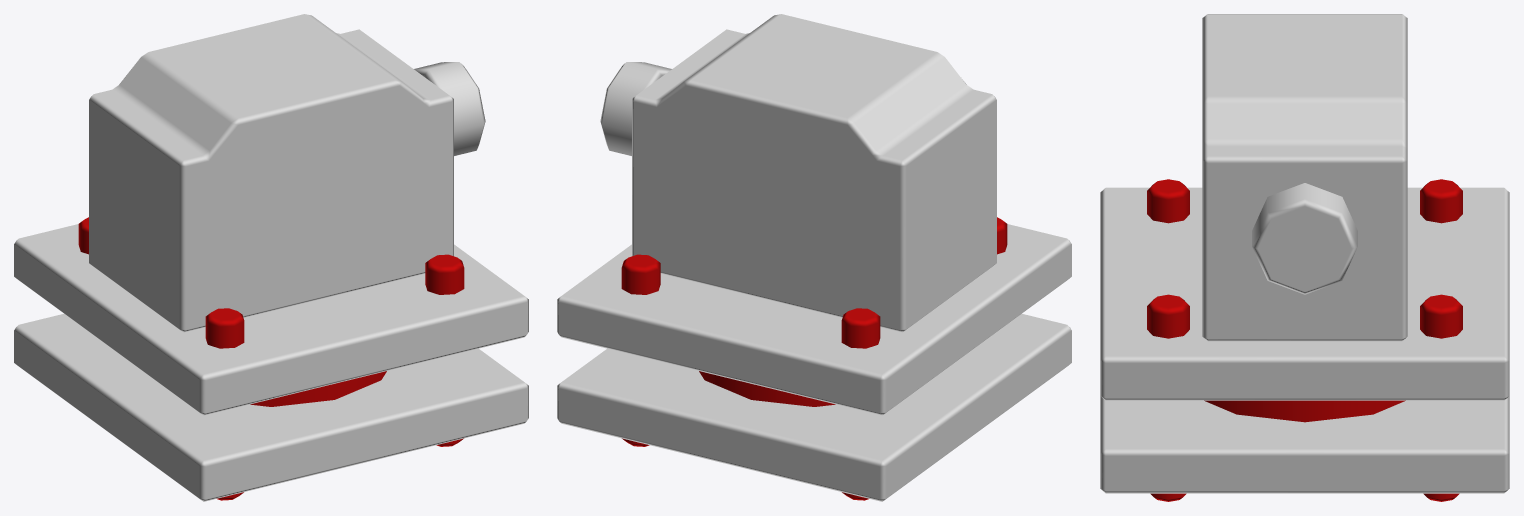
The model's file is VivariumFitting01.fbx.
The picture shows the model from 3 angles, left to right: view 1: azimuth 30°, elevation 25°; view 2: azimuth 150°, elevation 25°; view 3: azimuth 270°, elevation 25°; orthographic projection. The views are drawn at different scales.
Parts seen in each view (by area): view 1: VivariumFitting01; view 2: VivariumFitting01; view 3: VivariumFitting01.
Part boxes in pixels (box(x1,y1,x2,y2)): VivariumFitting01: box(14, 14, 528, 501); VivariumFitting01: box(557, 14, 1071, 501); VivariumFitting01: box(1100, 14, 1509, 501).
Size of the model in its own units: 8.12 by 7.73 by 7.5.
